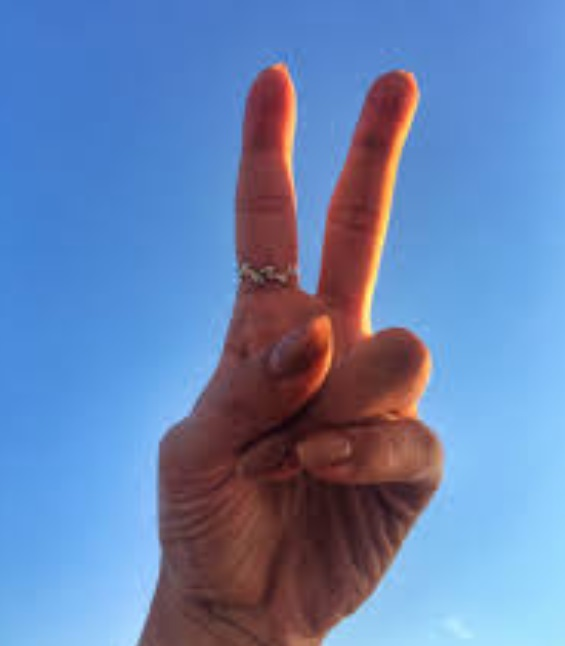peace: (153, 59, 446, 632)
